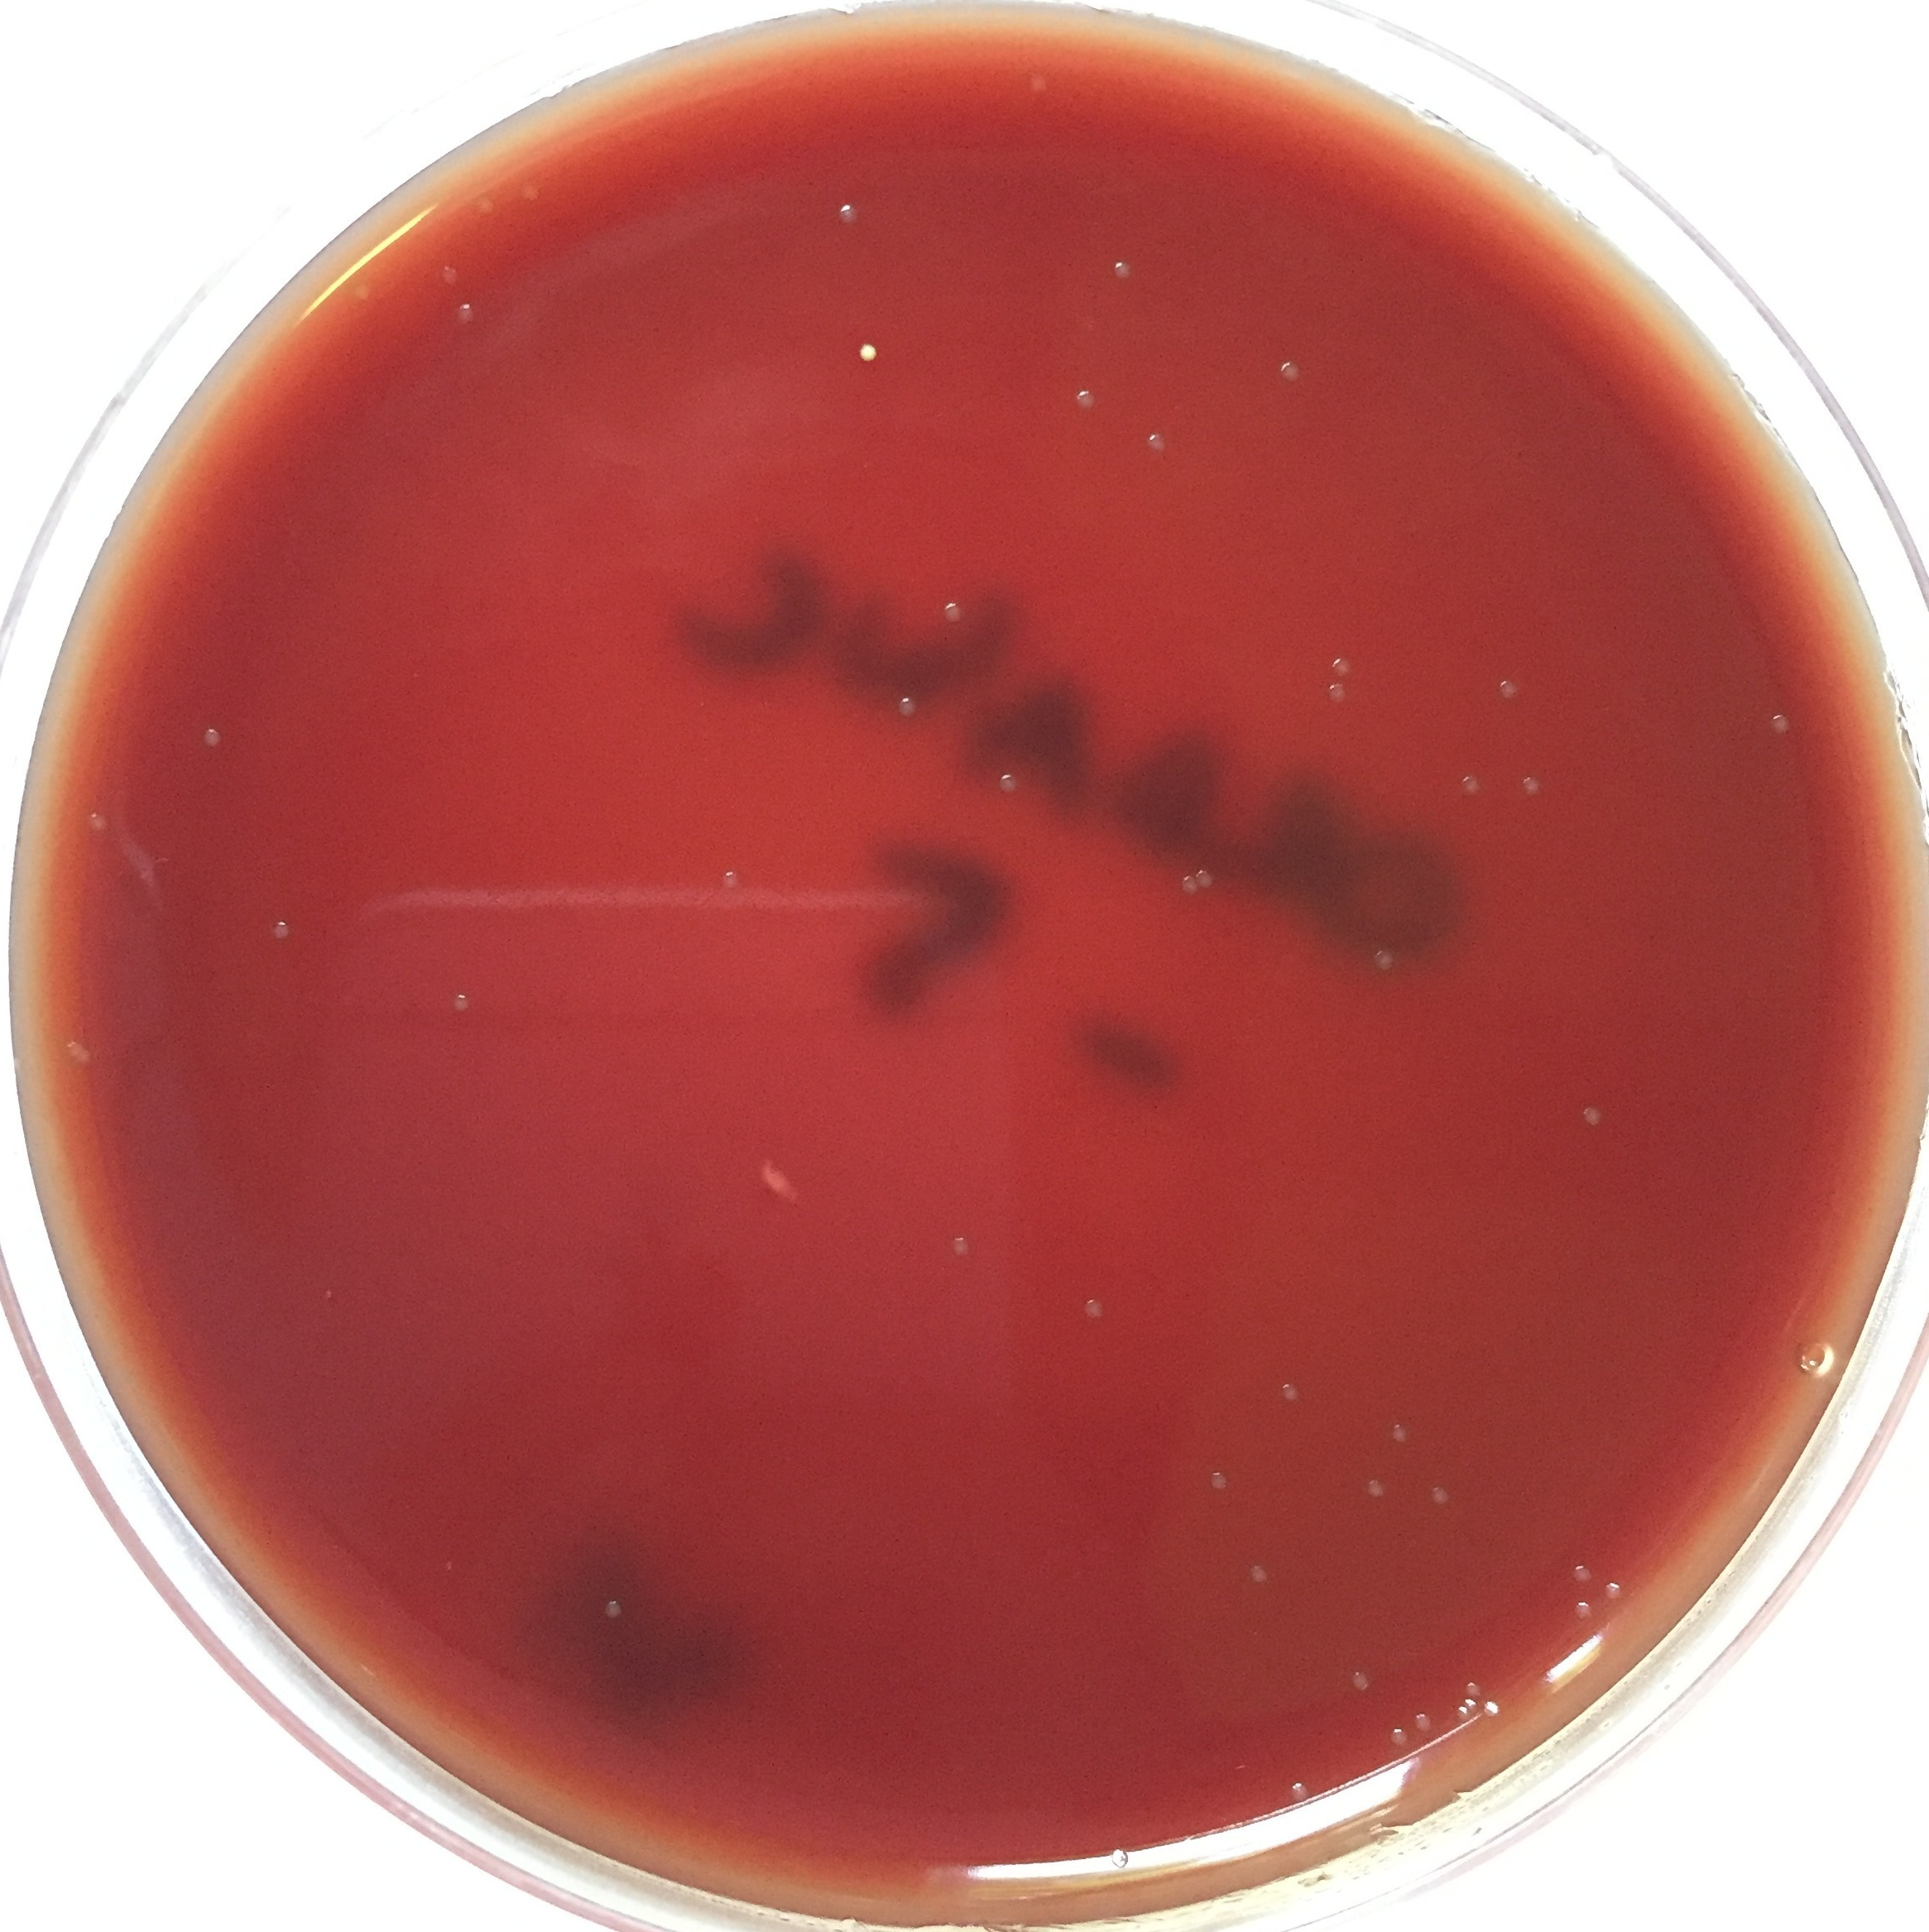sp10: (1129, 413, 1185, 464), (60, 1030, 101, 1079), (1759, 705, 1807, 743), (1415, 1482, 1464, 1517), (447, 290, 489, 330), (1265, 1374, 1309, 1413), (1574, 1093, 1607, 1143), (1016, 60, 1055, 102), (1364, 940, 1403, 982), (1069, 378, 1104, 424), (1486, 669, 1524, 710), (881, 689, 920, 729), (1275, 353, 1312, 396), (1514, 765, 1549, 809), (344, 275, 380, 318), (514, 171, 551, 210), (592, 1591, 631, 1628), (1339, 1664, 1380, 1699), (1099, 251, 1136, 288), (1350, 1473, 1390, 1506), (1595, 1574, 1639, 1604), (194, 722, 230, 759), (1240, 1558, 1279, 1591), (926, 599, 968, 629), (1318, 675, 1355, 708), (1380, 1418, 1417, 1452), (263, 909, 295, 948), (1169, 858, 1199, 899), (827, 198, 860, 233), (1199, 1464, 1233, 1499), (1565, 1596, 1604, 1626), (445, 989, 479, 1023), (1563, 1558, 1597, 1591), (1454, 768, 1484, 805), (429, 260, 461, 293), (846, 336, 881, 366), (1074, 1287, 1104, 1323), (940, 1229, 975, 1257), (79, 804, 108, 837), (1194, 855, 1219, 892), (993, 768, 1019, 802), (714, 864, 740, 897), (1323, 653, 1355, 678), (1282, 1777, 1309, 1801), (1387, 1722, 1410, 1748), (1411, 1711, 1440, 1732), (479, 185, 500, 210), (1480, 1701, 1502, 1722), (1457, 1706, 1473, 1725), (1466, 1681, 1482, 1697), (1464, 1695, 1479, 1711)
